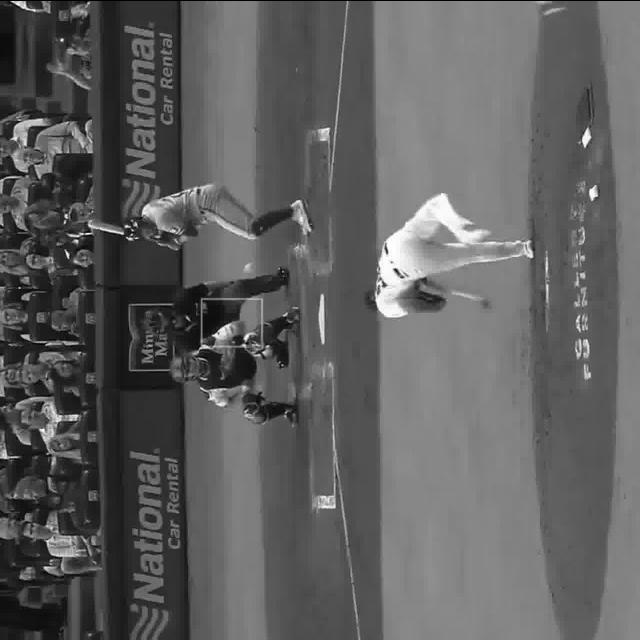base: (315, 293, 329, 345)
baseball: (244, 262, 254, 270)
baseball_glove: (218, 336, 238, 376), (414, 292, 446, 308)
bat: (84, 214, 179, 252)
shoe: (458, 224, 492, 246), (282, 396, 299, 428), (292, 201, 310, 231), (284, 298, 302, 328), (530, 248, 538, 260)
